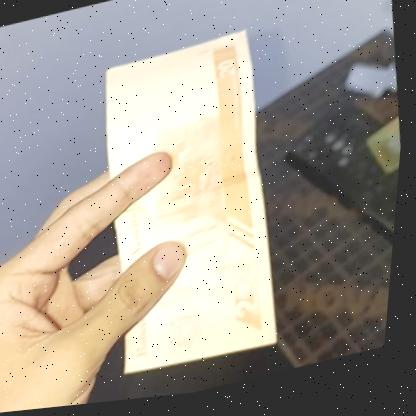twenty-back-vef: (82, 33, 300, 387)
